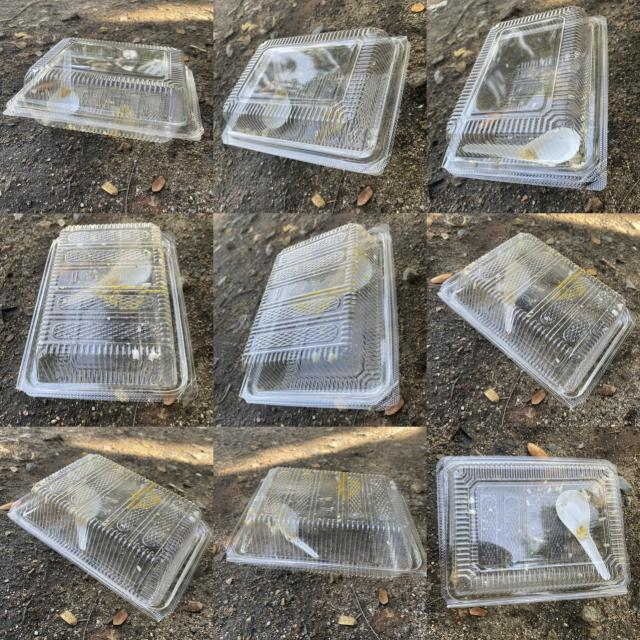Single-Use-Plastic: (439, 232, 635, 408), (8, 455, 211, 619), (16, 222, 198, 403), (442, 6, 609, 189), (436, 456, 630, 608), (240, 224, 399, 409), (221, 28, 410, 175), (226, 468, 425, 578), (4, 38, 204, 142), (556, 490, 610, 580), (462, 128, 581, 165)
